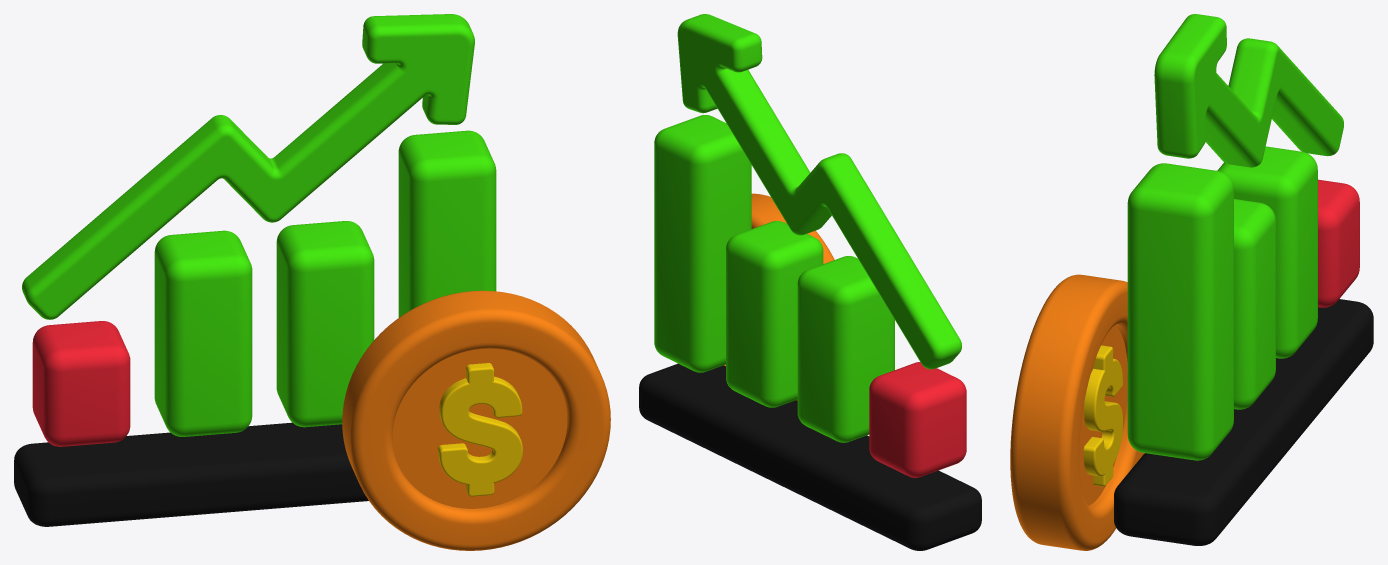
Rendered from distributer.glb.
3 views of the same model, side by side, from view 1: azimuth 30°, elevation 25°; view 2: azimuth 150°, elevation 25°; view 3: azimuth 270°, elevation 25° (orthographic). The views are drawn at different scales.
Parts seen in each view (by area): view 1: Cube.171, Cylinder.006, Cube.168, Cube.172, Text.004; view 2: Cube.171, Cube.172, Cube.168, Cylinder.006; view 3: Cube.171, Cylinder.006, Cube.172, Cube.168, Text.004.
Part boxes in pixels (x1,y1,x2,y2): Cube.171: (32, 130, 496, 446); Cylinder.006: (342, 290, 610, 550); Cube.168: (22, 14, 474, 319); Cube.172: (14, 422, 368, 526); Text.004: (438, 363, 522, 496); Cube.171: (654, 115, 966, 477); Cube.172: (639, 363, 981, 550); Cube.168: (677, 14, 961, 369); Cylinder.006: (724, 193, 834, 401); Cube.171: (1127, 146, 1359, 460); Cylinder.006: (1010, 274, 1144, 550); Cube.172: (1114, 299, 1373, 545); Cube.168: (1154, 14, 1343, 167); Text.004: (1083, 345, 1122, 486).
Bounding box in the file's own units: 2.64 × 2.65 × 1.75.
